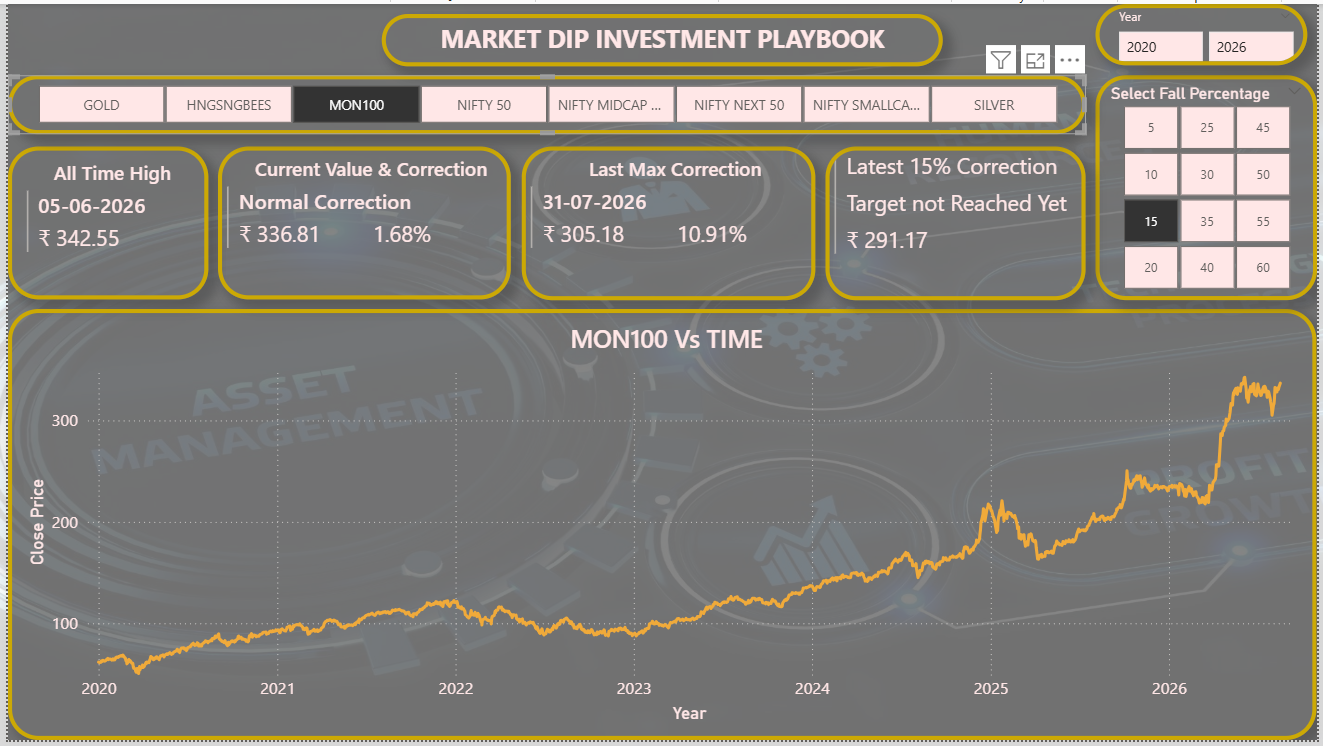

This screenshot's page, from the dashboard's own definition file:
{"tool":"powerbi","page":{"name":"Dashboard","canvas":[1280,720],"ordinal":0},"visuals":[{"type":"slicer","fields":{"Values":["Commodities.Asset Class"]},"box":[0,69.7,1054.1,57.5],"z":0},{"type":"multiRowCard","title":"All Time High","fields":{"Values":["Combine Data.Dt ATH","Combine Data.ATH"]},"box":[0,140,196.2,149.6],"z":1000},{"type":"multiRowCard","title":"Current Value & Correction","fields":{"Values":["Combine Data.Current Value","Combine Data.Current Correction","Combine Data.Play Book"]},"box":[205.8,140,286.8,149.6],"z":2000},{"type":"multiRowCard","title":"Last Max Correction","fields":{"Values":["Combine Data.dt max correction","Combine Data.Max correction","Combine Data.Max correction(%)"]},"box":[502.4,139.4,287.4,150.4],"z":3000},{"type":"lineChart","fields":{"Category":["Combine Data.DATE.Variation.Date Hierarchy.Year","Combine Data.DATE.Variation.Date Hierarchy.Quarter","Combine Data.DATE.Variation.Date Hierarchy.Month","Combine Data.DATE.Variation.Date Hierarchy.Day"],"Y":["Sum(Combine Data.ADJ. PRICE)"]},"box":[0,298.4,1280.3,421.9],"z":4000},{"type":"slicer","fields":{"Values":["Fall Percentage.Fall Percentage"]},"box":[1063.9,69.7,216.4,220.1],"z":5000},{"type":"multiRowCard","title":"Latest Correction","fields":{"Values":["Fall Percentage.Header","Combine Data.Date of Fall","Combine Data.Fall Value"]},"box":[799.5,139.4,254.3,150.4],"z":6000},{"type":"textbox","box":[365.5,9.8,549.1,51.4],"z":7000},{"type":"slicer","fields":{"Values":["Combine Data.DATE.Variation.Date Hierarchy.Year"]},"box":[1063.5,0,207.2,60.4],"z":8000}]}

Visuals, with their boxes in screenshot pixels (x1, y1, x2, y2), scaled from the page's 1280x720 canvas onto the 1323x746 screenshot:
slicer - Commodities.Asset Class: BBox(0, 72, 1090, 132)
"All Time High" multiRowCard: BBox(0, 145, 203, 300)
"Current Value & Correction" multiRowCard: BBox(213, 145, 509, 300)
"Last Max Correction" multiRowCard: BBox(519, 144, 816, 300)
lineChart - Combine Data.DATE.Variation.Date Hierarchy.Year x Combine Data.DATE.Variation.Date Hierarchy.Quarter: BBox(0, 309, 1322, 745)
slicer - Fall Percentage.Fall Percentage: BBox(1100, 72, 1322, 300)
"Latest Correction" multiRowCard: BBox(826, 144, 1089, 300)
textbox: BBox(378, 10, 945, 63)
slicer - Combine Data.DATE.Variation.Date Hierarchy.Year: BBox(1099, 0, 1313, 63)
